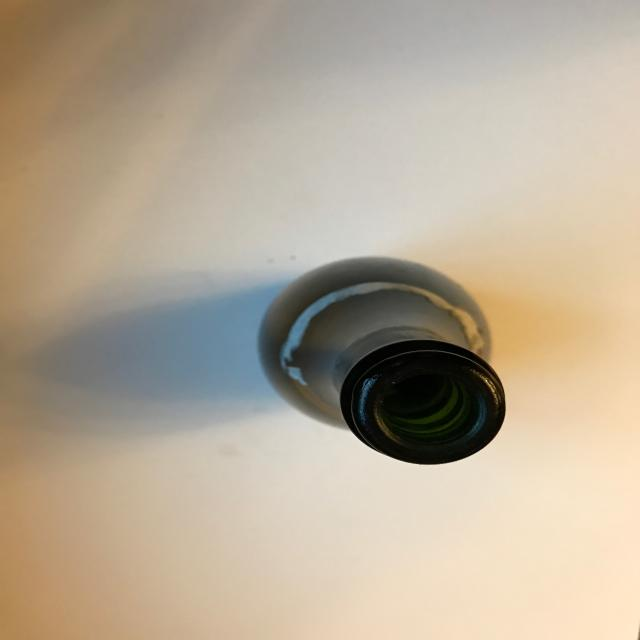glass: (256, 254, 507, 465)
